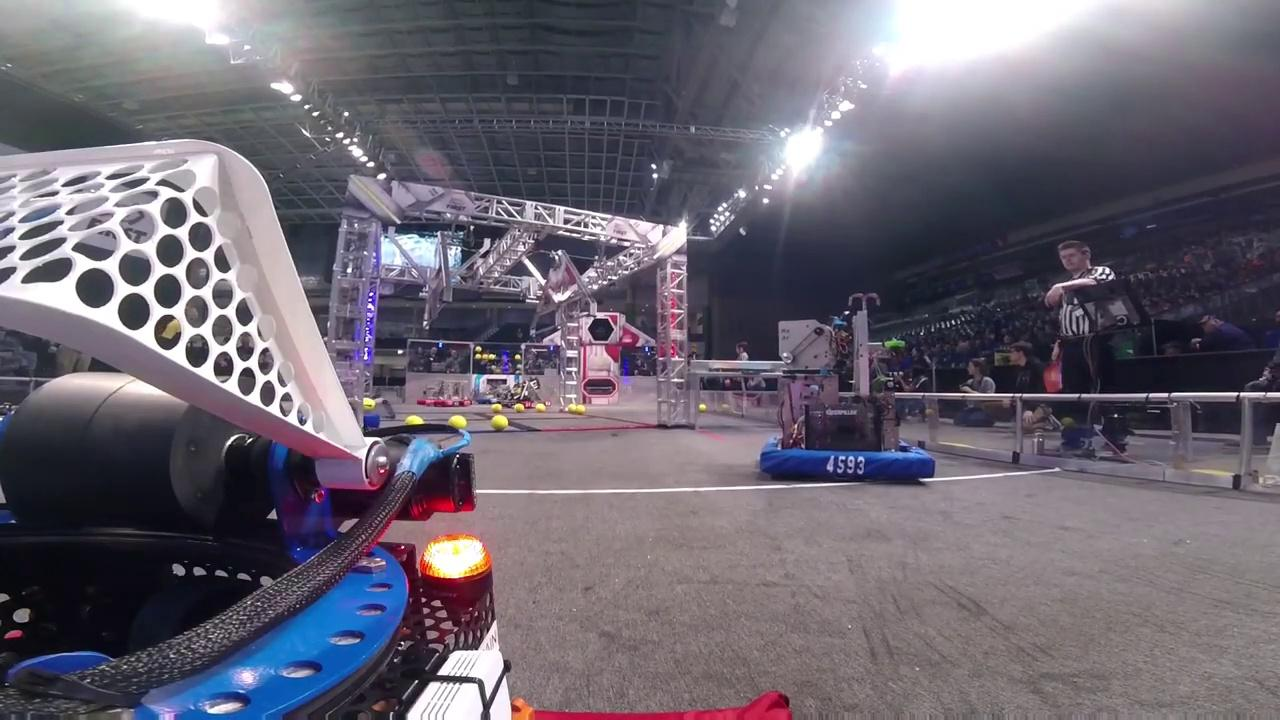robot: (753, 290, 941, 483), (417, 377, 473, 410)
